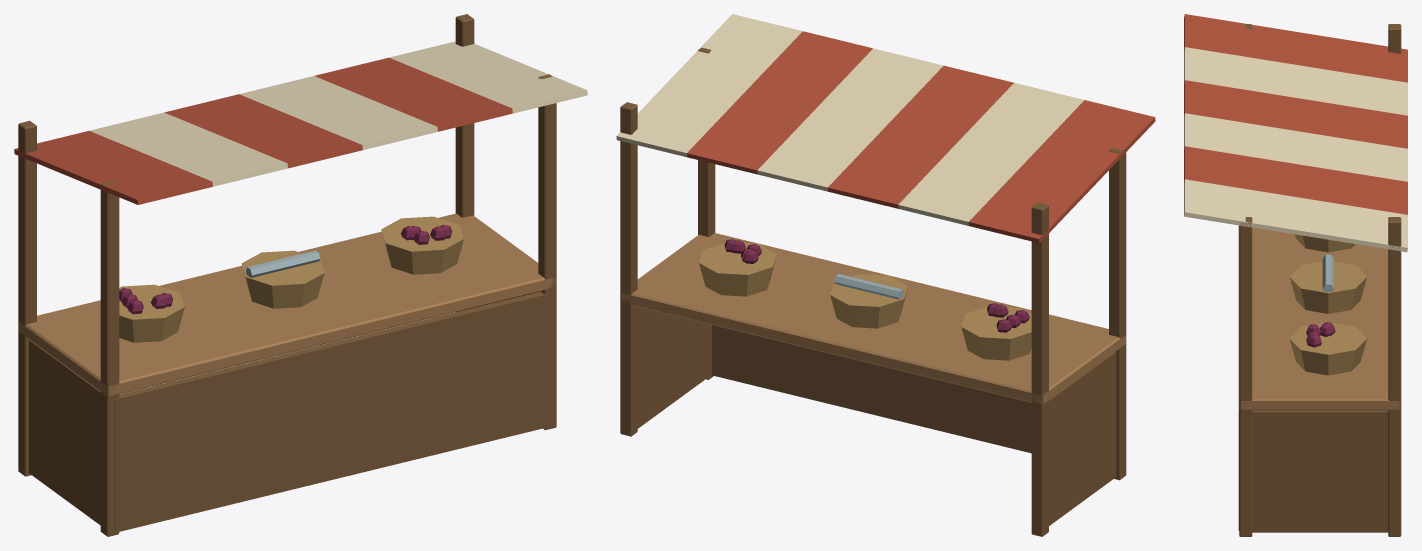
Rendered from market-stall.glb.
3 views of the same model, side by side, from view 1: azimuth 30°, elevation 25°; view 2: azimuth 150°, elevation 25°; view 3: azimuth 270°, elevation 25° (orthographic). The views are drawn at different scales.
Parts seen in each view (by area): view 1: market-stall; view 2: market-stall; view 3: market-stall.
Boxes of the visible parts, box(x1,y1,x2,y2) form: market-stall: box(14, 14, 587, 536); market-stall: box(616, 14, 1155, 536); market-stall: box(1184, 14, 1407, 536).
Size of the model in its own units: 2.9 by 2.22 by 1.38.
